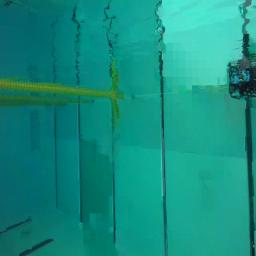front: (226, 57, 256, 102)
